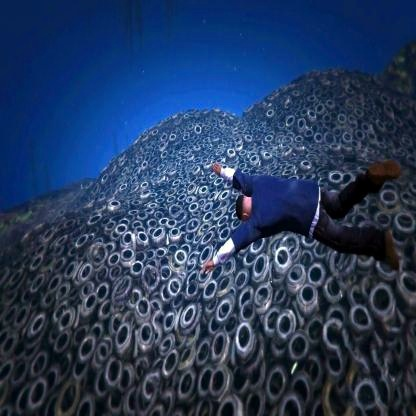tire: (270, 250, 308, 290), (232, 310, 261, 358), (29, 311, 57, 347), (180, 301, 206, 339), (130, 230, 157, 259)
